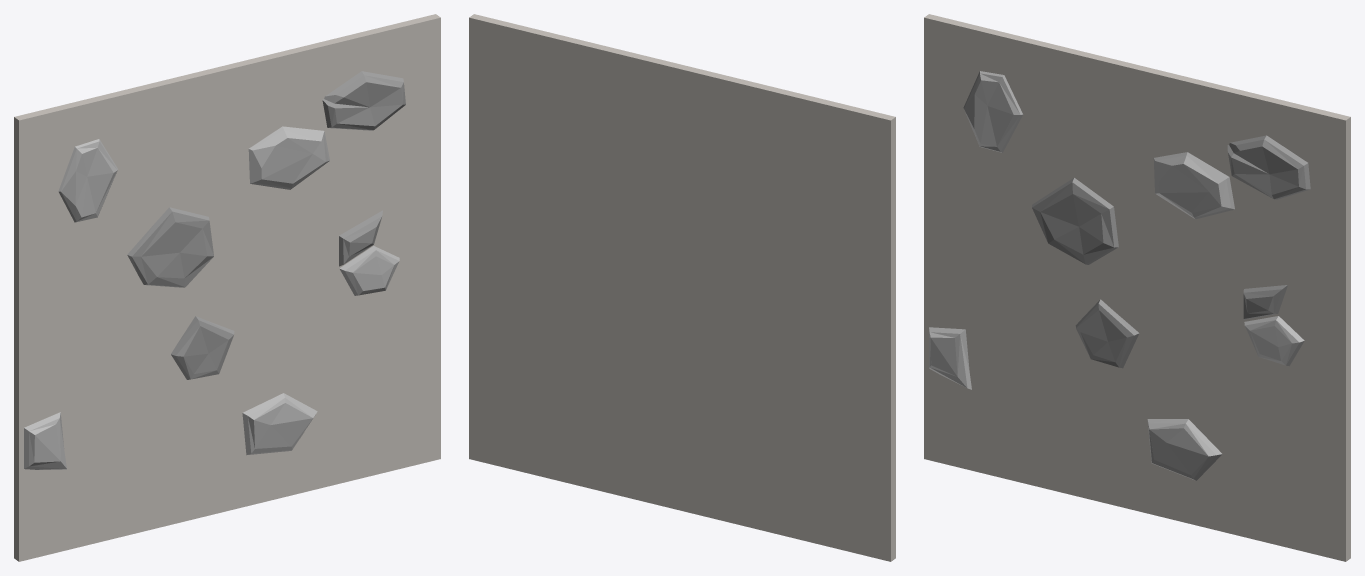
File: _WALL_06_1.fbx
The picture shows the model from 3 angles, left to right: view 1: azimuth 30°, elevation 25°; view 2: azimuth 150°, elevation 25°; view 3: azimuth 330°, elevation 25°; orthographic projection.
Parts seen in each view (by area): view 1: WALL_06_1; view 2: WALL_06_1; view 3: WALL_06_1.
Boxes of the visible parts, x1,y1,x2,y2 form: WALL_06_1: (14,14,440,561); WALL_06_1: (469,14,895,561); WALL_06_1: (924,14,1350,561).
Size of the model in its own units: 300 by 300 by 12.
